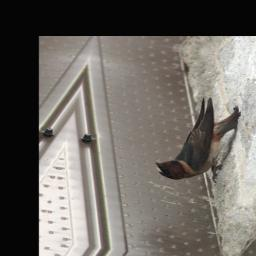Swallow: (152, 92, 247, 187)
